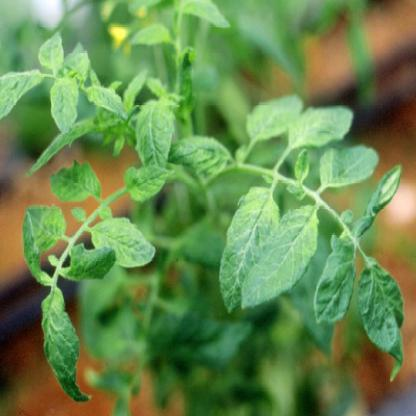tomato leaf mosaic virus: (242, 202, 320, 311), (223, 186, 276, 312), (41, 287, 92, 404), (360, 255, 403, 376), (315, 142, 377, 200), (288, 96, 351, 153), (92, 216, 153, 271), (137, 101, 176, 171), (50, 163, 103, 208), (122, 166, 178, 204), (82, 81, 129, 123), (51, 78, 79, 137)
